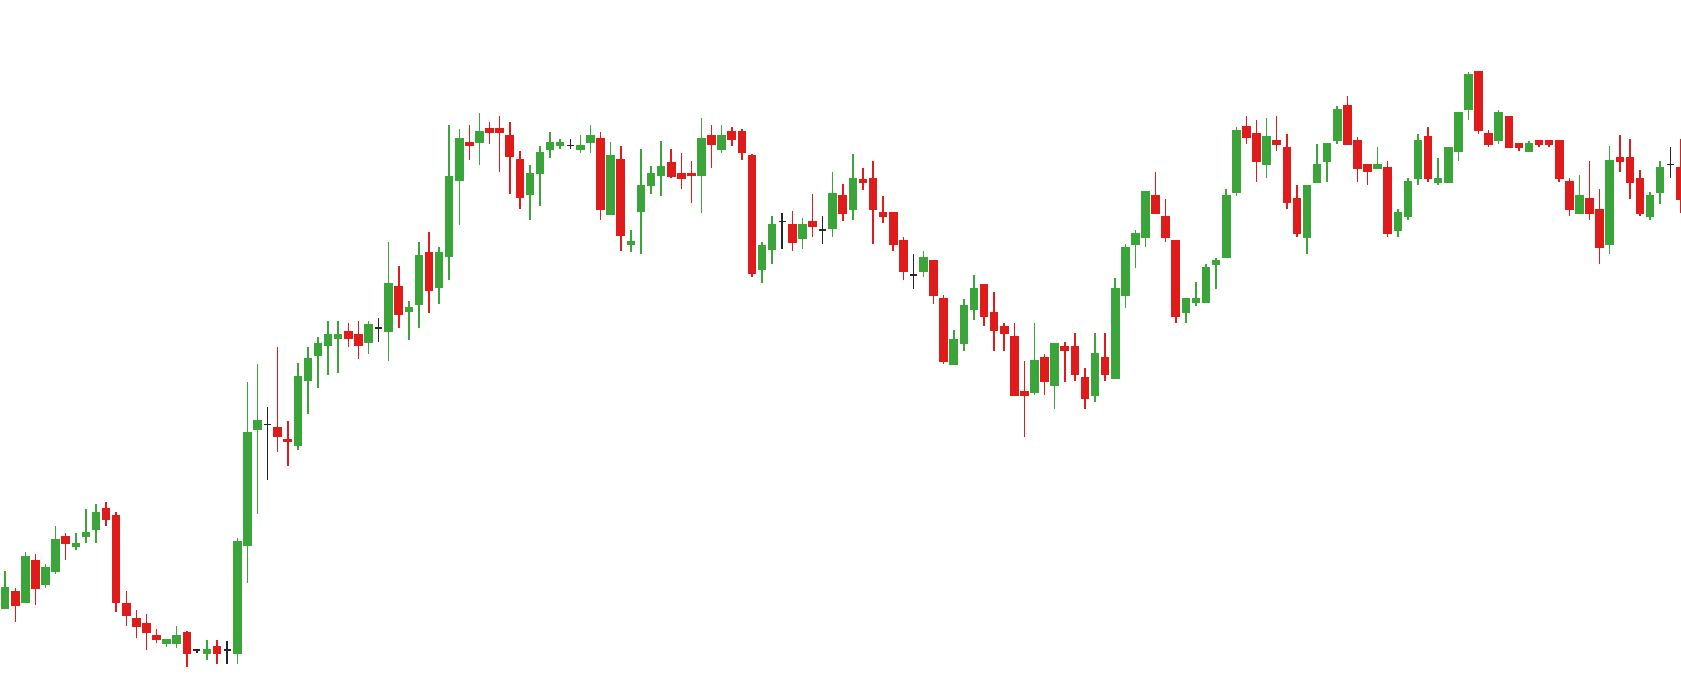sell: (1231, 97, 1353, 178)
